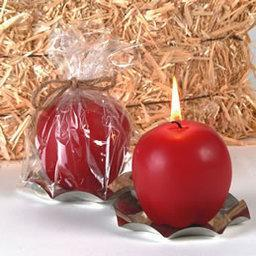apple: (130, 123, 237, 235)
